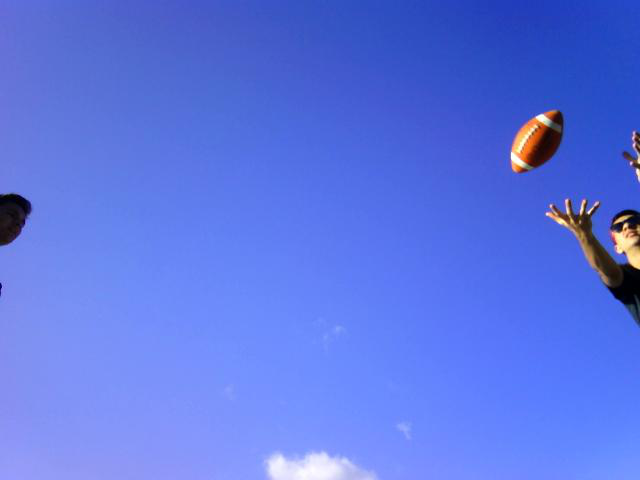football: (509, 110, 568, 178)
